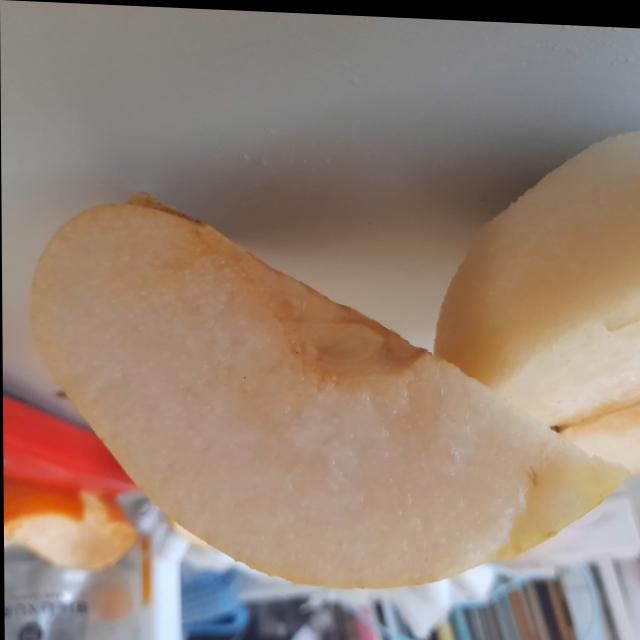Le: (12, 183, 639, 602)
